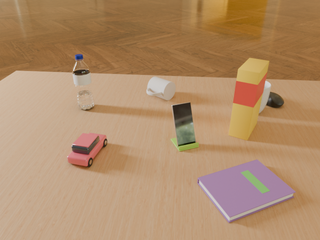book: (198, 160, 295, 223)
bottle: (72, 54, 94, 110)
box: (229, 58, 269, 140)
cup: (147, 77, 175, 100)
mouse: (266, 92, 284, 108)
phone: (172, 102, 196, 147)
toy_car: (67, 133, 107, 166)
